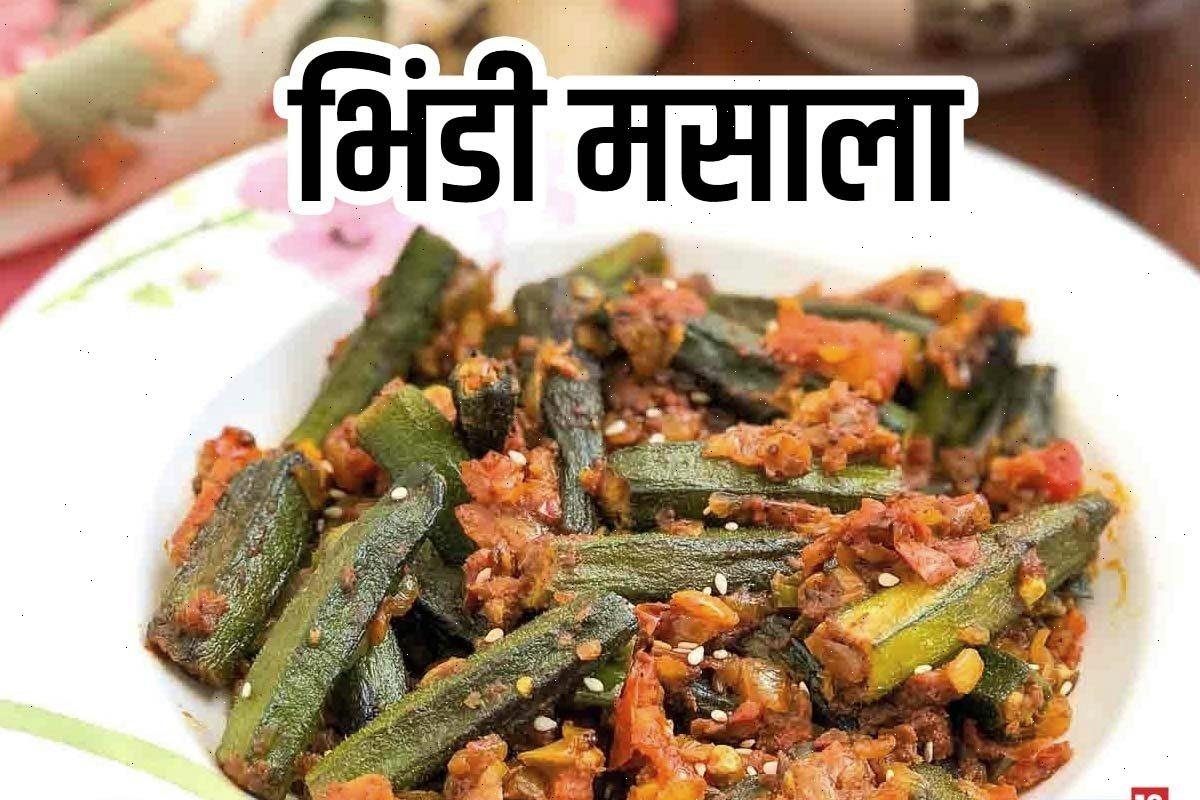bhindi: (165, 279, 1087, 800)
